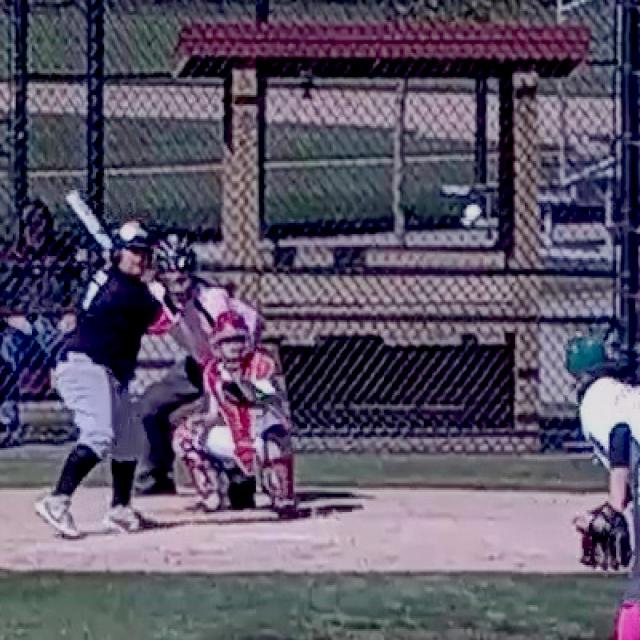baseball: (464, 205, 482, 223)
